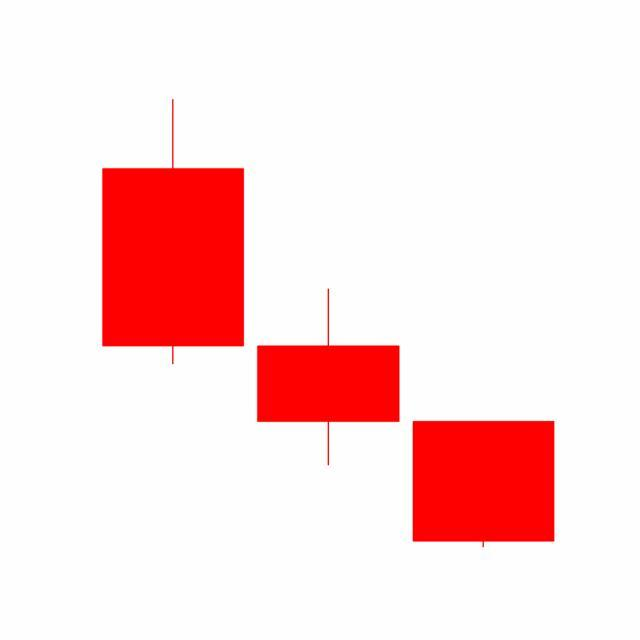Marubozu: (406, 420, 562, 550)
